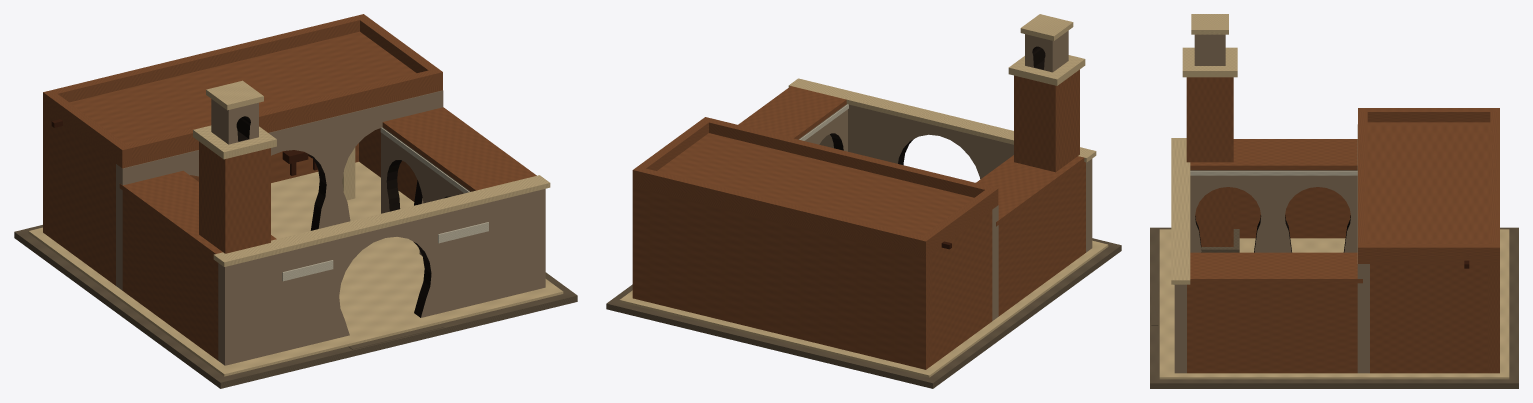
Rendered from Berber_Mosque_Age3.fbx.
The picture shows the model from 3 angles, left to right: view 1: azimuth 30°, elevation 25°; view 2: azimuth 150°, elevation 25°; view 3: azimuth 270°, elevation 25°; orthographic projection. The views are drawn at different scales.
Parts seen in each view (by area): view 1: entrance_wall, prayer_hall_roof, courtyard_floor, outer_gallery_wall_-3.38, prayer_hall_horseshoe_arcade, prayer_side_-3.38, foundation, square_minaret_shaft, gallery_roof_3.38, hall_end_parapet.001, entrance_cap, hall_end_parapet (+13 smaller); view 2: qibla_wall, prayer_hall_roof, outer_gallery_wall_-3.38, prayer_side_-3.38, foundation, entrance_wall, square_minaret_shaft, hall_end_parapet.001, courtyard_floor, hall_end_parapet, gallery_roof_3.38, entrance_cap (+8 smaller); view 3: prayer_hall_roof, outer_gallery_wall_3.38, prayer_side_3.38, courtyard_floor, foundation, side_gallery_arcade_-3.38, square_minaret_shaft, gallery_roof_3.38, gallery_roof_-3.38, outer_gallery_wall_-3.38, entrance_cap, hall_side_parapet.001 (+12 smaller).
Boxes of the visible parts, box(x1,y1,x2,y2) form: entrance_wall: box(218, 189, 545, 365); prayer_hall_roof: box(43, 31, 442, 168); courtyard_floor: box(28, 162, 563, 376); outer_gallery_wall_-3.38: box(122, 191, 218, 360); prayer_hall_horseshoe_arcade: box(116, 90, 443, 290); prayer_side_-3.38: box(49, 115, 115, 285); foundation: box(14, 225, 577, 388); square_minaret_shaft: box(199, 141, 270, 253); gallery_roof_3.38: box(382, 107, 536, 191); hall_end_parapet.001: box(53, 16, 359, 102); entrance_cap: box(213, 175, 550, 266); hall_end_parapet: box(126, 70, 433, 159); qibla_wall: box(632, 186, 931, 369); prayer_hall_roof: box(632, 133, 998, 257); outer_gallery_wall_-3.38: box(998, 162, 1085, 316); prayer_side_-3.38: box(931, 210, 992, 365); foundation: box(606, 238, 1121, 388); entrance_wall: box(819, 104, 1092, 252); square_minaret_shaft: box(1014, 69, 1079, 172); hall_end_parapet.001: box(641, 168, 921, 249); courtyard_floor: box(619, 240, 1108, 377); hall_end_parapet: box(709, 119, 989, 197); gallery_roof_3.38: box(738, 86, 846, 139); entrance_cap: box(788, 78, 1096, 162); prayer_hall_roof: box(1358, 122, 1499, 263); outer_gallery_wall_3.38: box(1187, 283, 1357, 373); prayer_side_3.38: box(1370, 264, 1488, 373); courtyard_floor: box(1159, 229, 1509, 379); foundation: box(1150, 227, 1518, 388); side_gallery_arcade_-3.38: box(1190, 170, 1357, 252); square_minaret_shaft: box(1186, 77, 1233, 246); gallery_roof_3.38: box(1190, 252, 1362, 283); gallery_roof_-3.38: box(1190, 139, 1357, 169); outer_gallery_wall_-3.38: box(1233, 187, 1350, 238); entrance_cap: box(1171, 138, 1190, 284); hall_side_parapet.001: box(1358, 243, 1499, 257).
Bounding box in the file's own units: 780 × 542 × 780.
6 materials, 6 textured.
